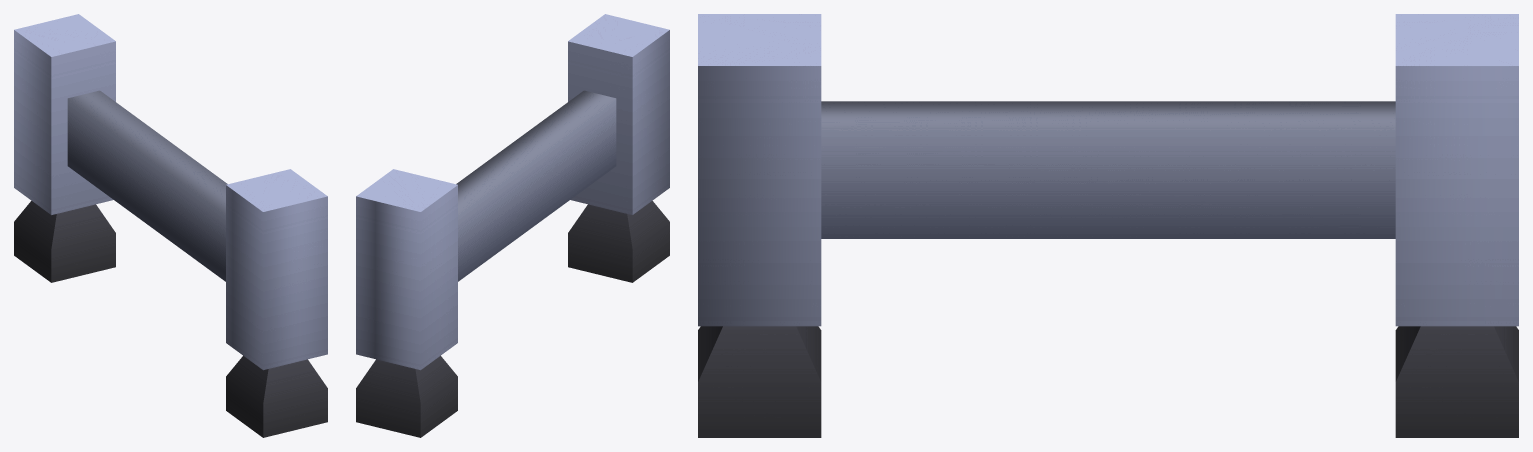
File: structure-short.glb
3 renders of one model, left to right at view 1: azimuth 30°, elevation 25°; view 2: azimuth 150°, elevation 25°; view 3: azimuth 270°, elevation 25°, orthographic. The views are drawn at different scales.
Visible parts, largest first — view 1: structure-short; view 2: structure-short; view 3: structure-short.
Boxes of the visible parts, x1,y1,x2,y2 form: structure-short: (14, 14, 327, 437); structure-short: (356, 14, 669, 437); structure-short: (698, 14, 1518, 437).
Bounding box in the file's own units: 0.15 × 0.5 × 1.
1 material, 1 textured.
